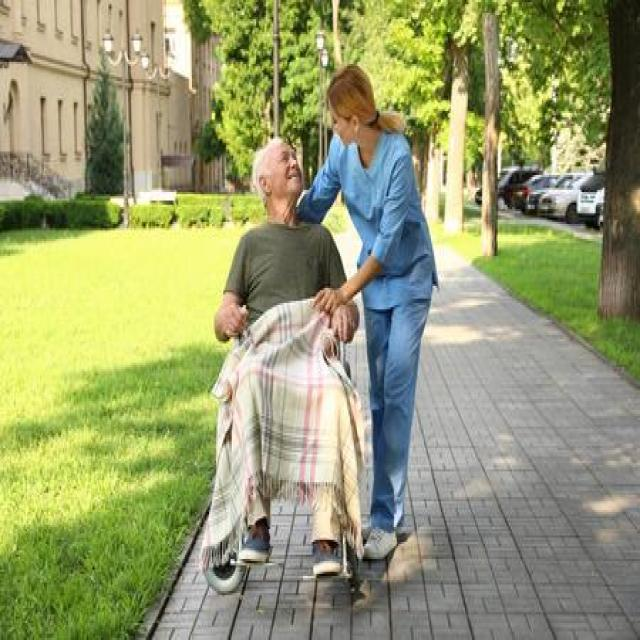wheelchairs: (196, 300, 359, 590)
